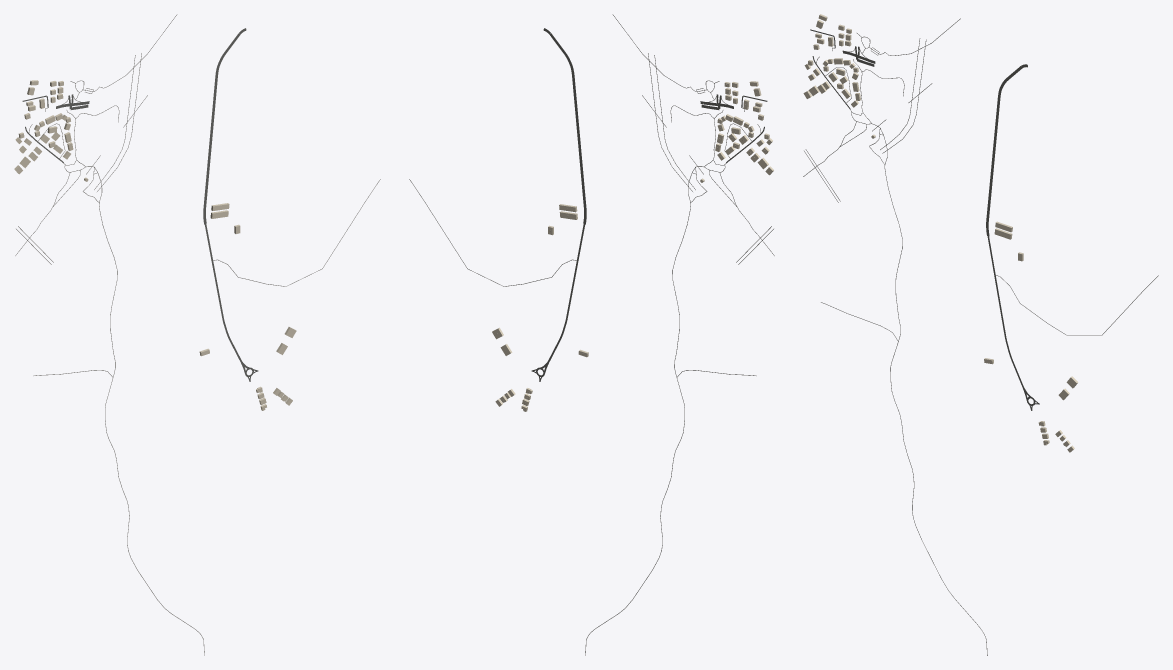
File: historic-palestine-06_24_3475_3186.glb
3 renders of one model, left to right at view 1: azimuth 30°, elevation 25°; view 2: azimuth 150°, elevation 25°; view 3: azimuth 330°, elevation 25°, orthographic. The views are drawn at different scales.
Parts seen in each view (by area): view 1: Road 4124; view 2: Road 4124, Road .003; view 3: Road 4124, Road .003.
Part boxes in pixels (<box>): Road 4124: <box>203,33,240,224</box>; Road 4124: <box>550,33,586,224</box>; Road .003: <box>585,202,690,655</box>; Road 4124: <box>986,66,1022,236</box>; Road .003: <box>884,165,987,655</box>.
Bounding box in the file's own units: 1106 × 1874 × 8.7.
